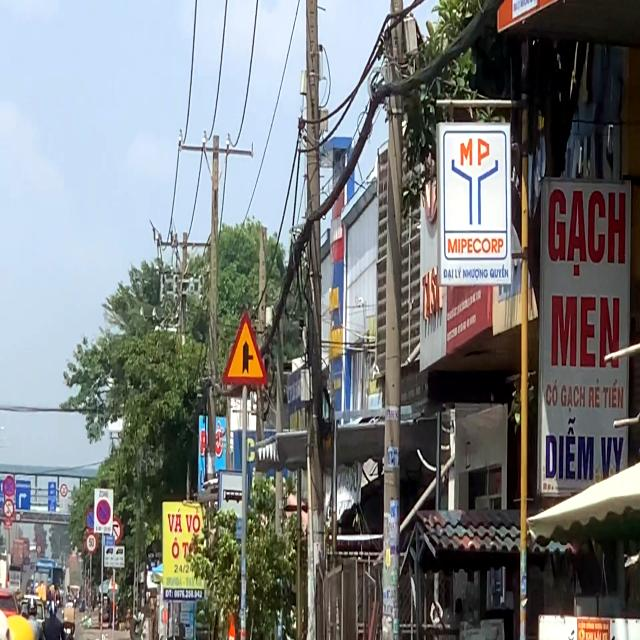W.207b: (222, 311, 270, 389)
